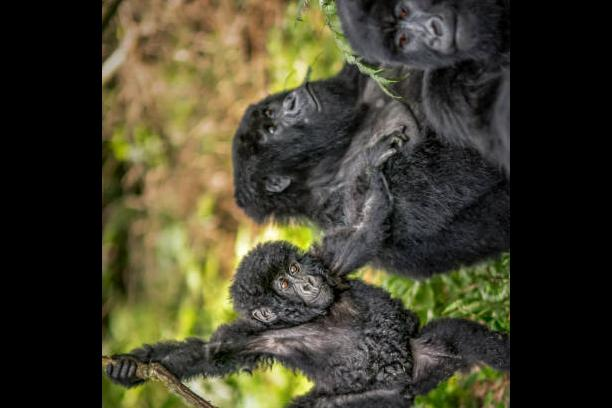goriile_montagne: (175, 0, 510, 291), (146, 235, 483, 408)
